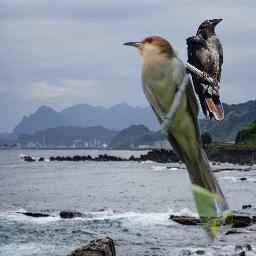Crow: (185, 17, 224, 121)
Cuckoo: (122, 34, 233, 245)
